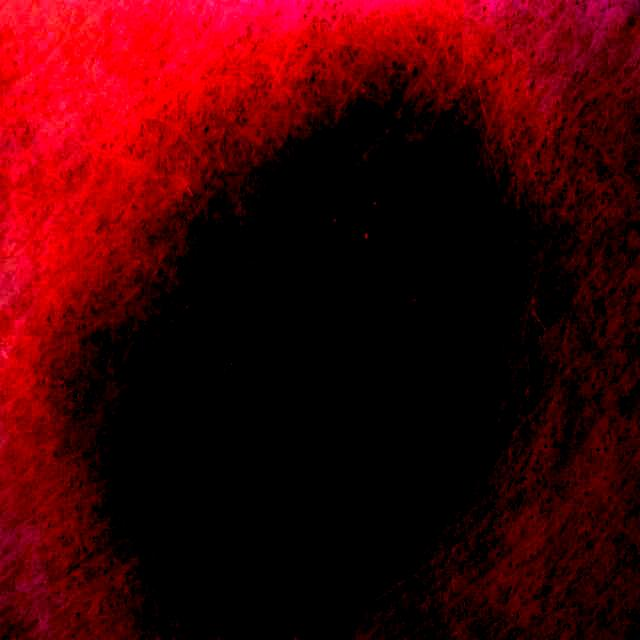NV: (42, 41, 541, 629)
